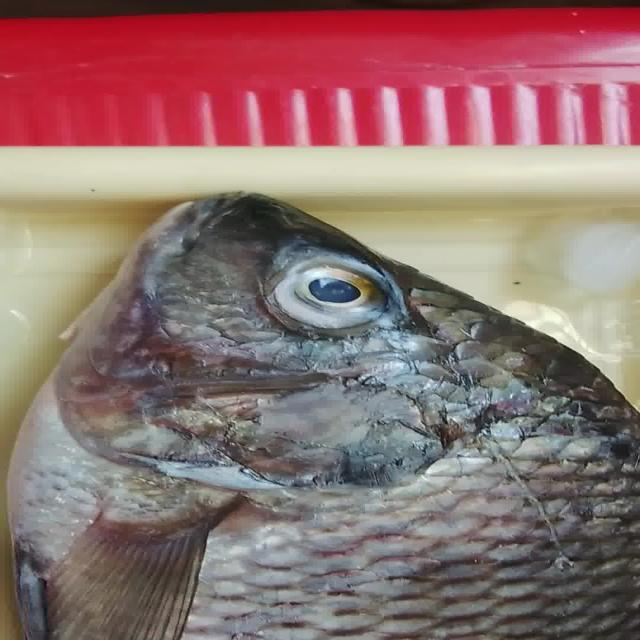Fresh: (2, 392, 608, 640), (223, 245, 437, 349)
